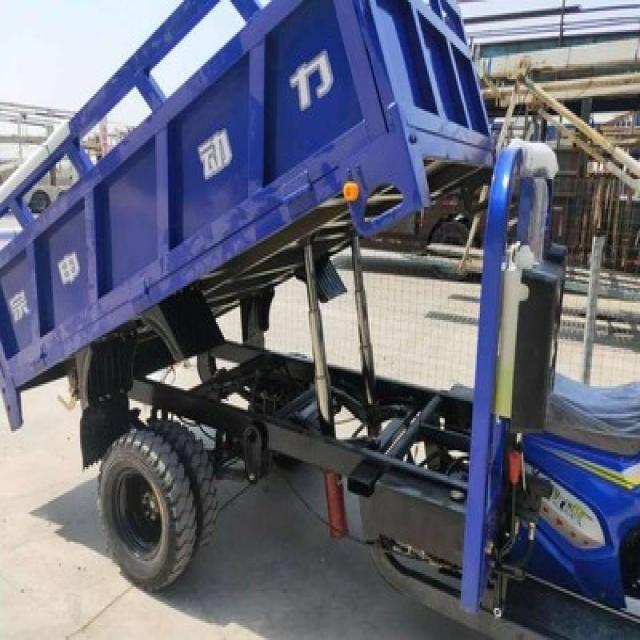tricycle: (0, 0, 637, 638)
